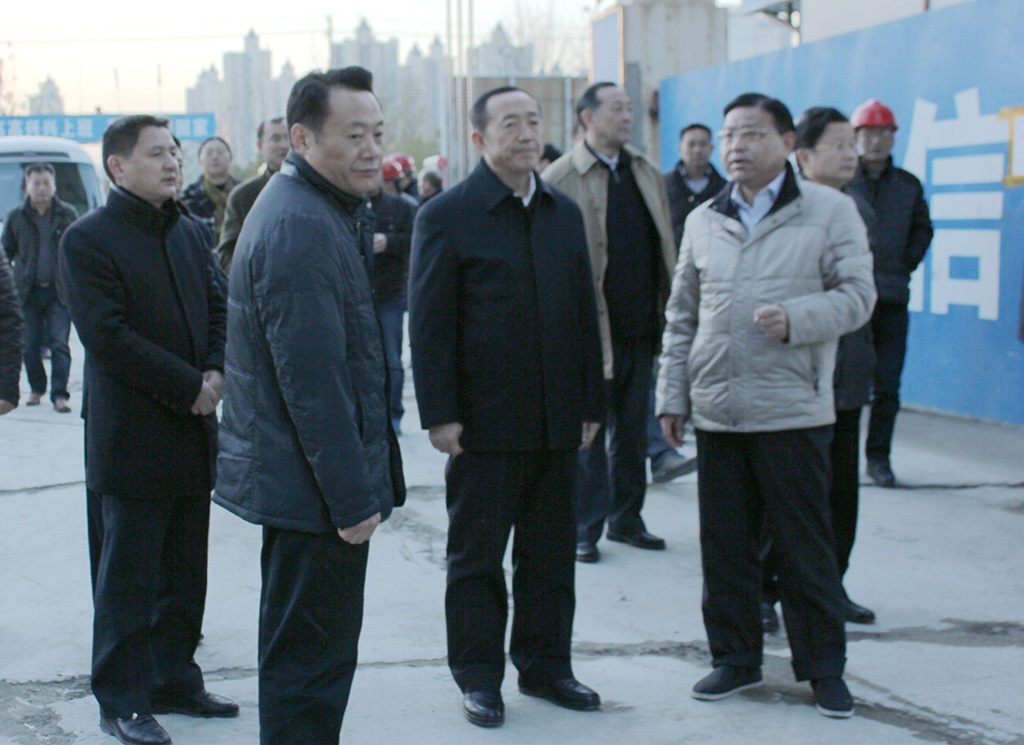none: (280, 64, 387, 197), (94, 111, 183, 204), (468, 78, 546, 174), (717, 91, 794, 182), (797, 106, 857, 184), (578, 75, 637, 149), (673, 120, 715, 169), (255, 112, 291, 169), (195, 133, 233, 181), (21, 160, 56, 204), (416, 164, 443, 198)
red: (847, 101, 898, 164), (377, 158, 402, 191), (393, 152, 414, 184)
